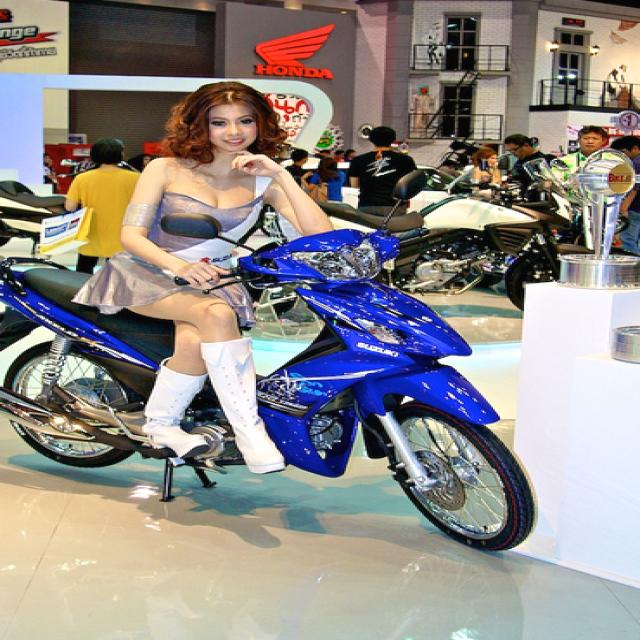Vehicle: (0, 228, 540, 548), (402, 188, 590, 312), (0, 167, 67, 250)
